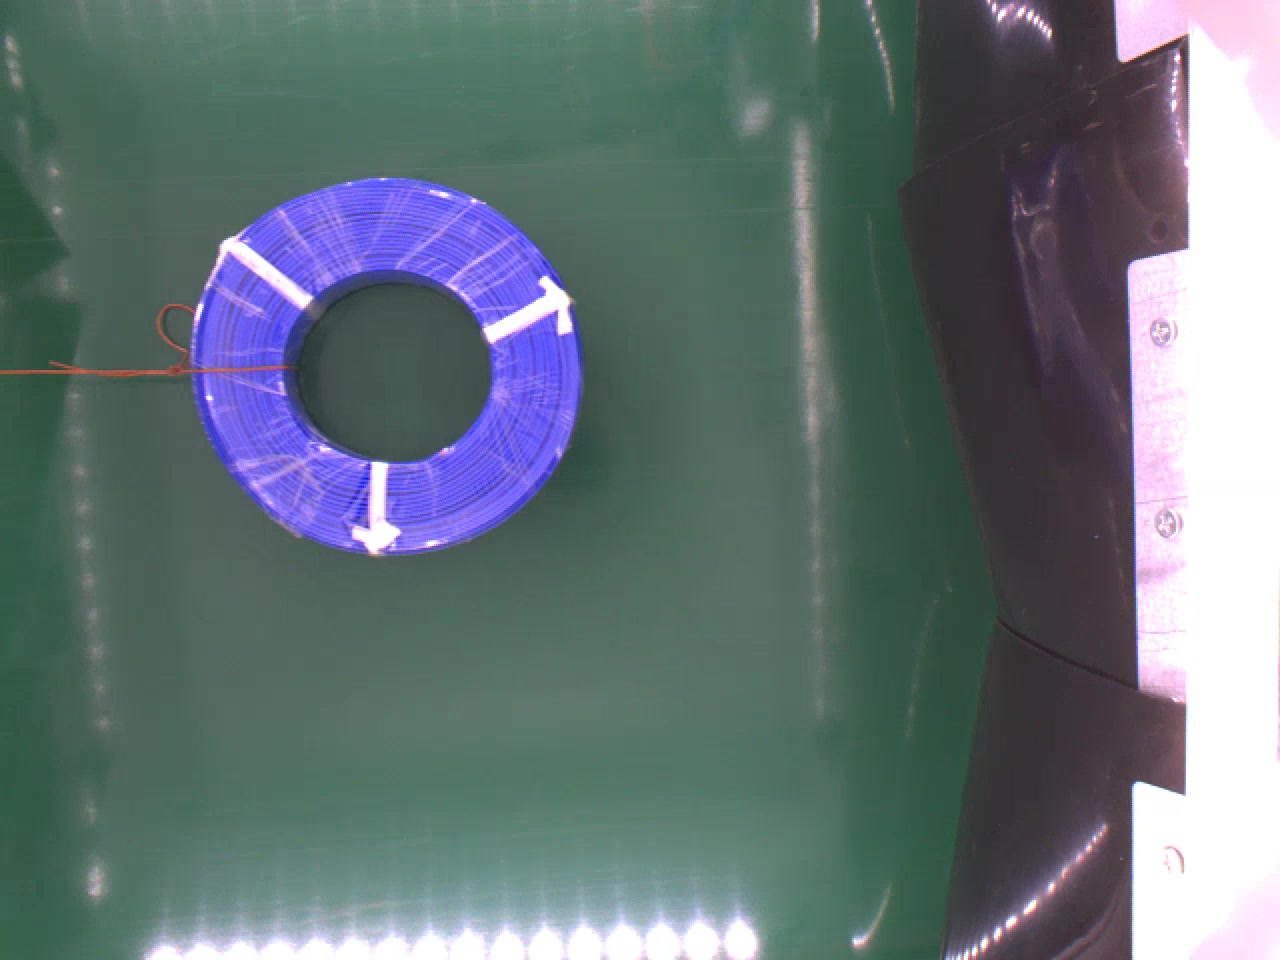blue: (195, 170, 587, 548)
